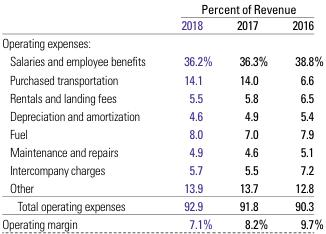table: (1, 0, 323, 231)
table column: (1, 0, 162, 231), (162, 0, 223, 231), (223, 0, 279, 231), (279, 0, 323, 231)
table column header: (1, 0, 323, 33)
table projected row header: (1, 33, 323, 51)
table row: (1, 105, 323, 124), (1, 33, 323, 51), (1, 51, 323, 69), (1, 69, 323, 87), (1, 87, 323, 105), (1, 124, 323, 142), (1, 142, 323, 160), (1, 160, 323, 178), (1, 178, 323, 196), (1, 196, 323, 214), (1, 16, 323, 33), (1, 214, 323, 231), (1, 0, 323, 16)
table spanning cell: (162, 0, 323, 16)
